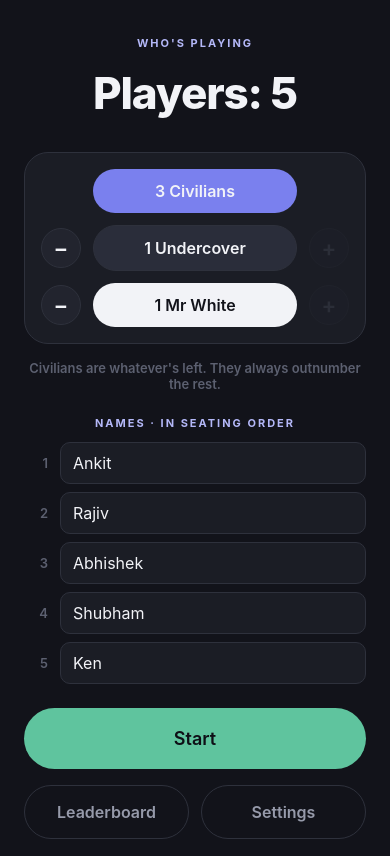
Scenario: app — word list › AW1 settings opens from setup, shows the saved list, and goes back
The image size is (390, 856).
Click the button with test id "setup-settings".
click(284, 812)  # box 201,785 -> 366,839
(page scrolled)
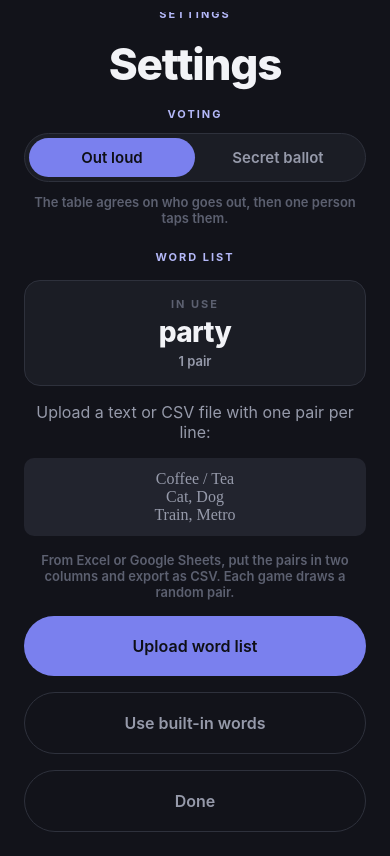
Result: the text with test id "settings-current" reads "party" at 159,315 -> 231,349
Click the button with test id "settings-done".
click(195, 801)  # box 24,770 -> 366,832
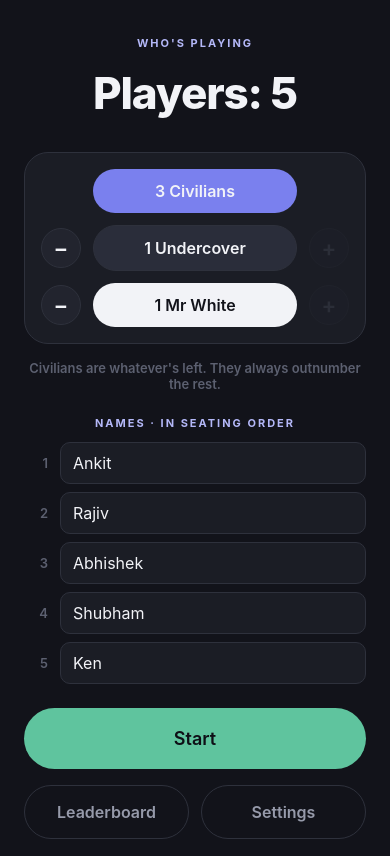
Result: the element with test id "setup-screen" is shown
